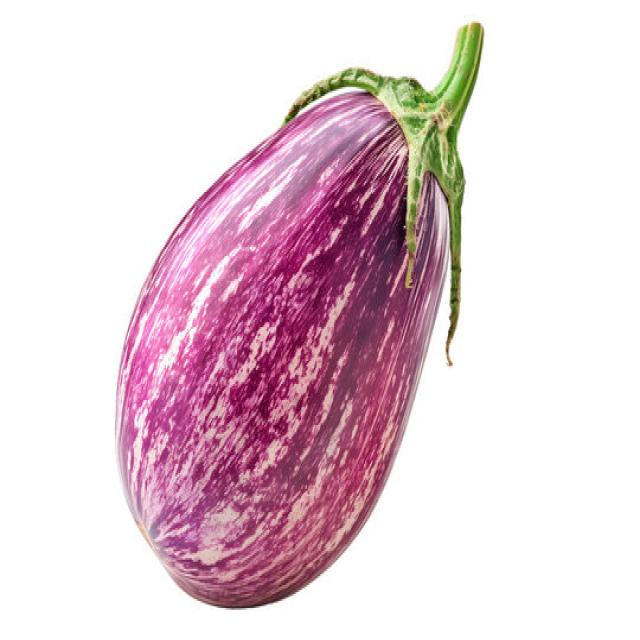Eggplant: (112, 19, 484, 610)
